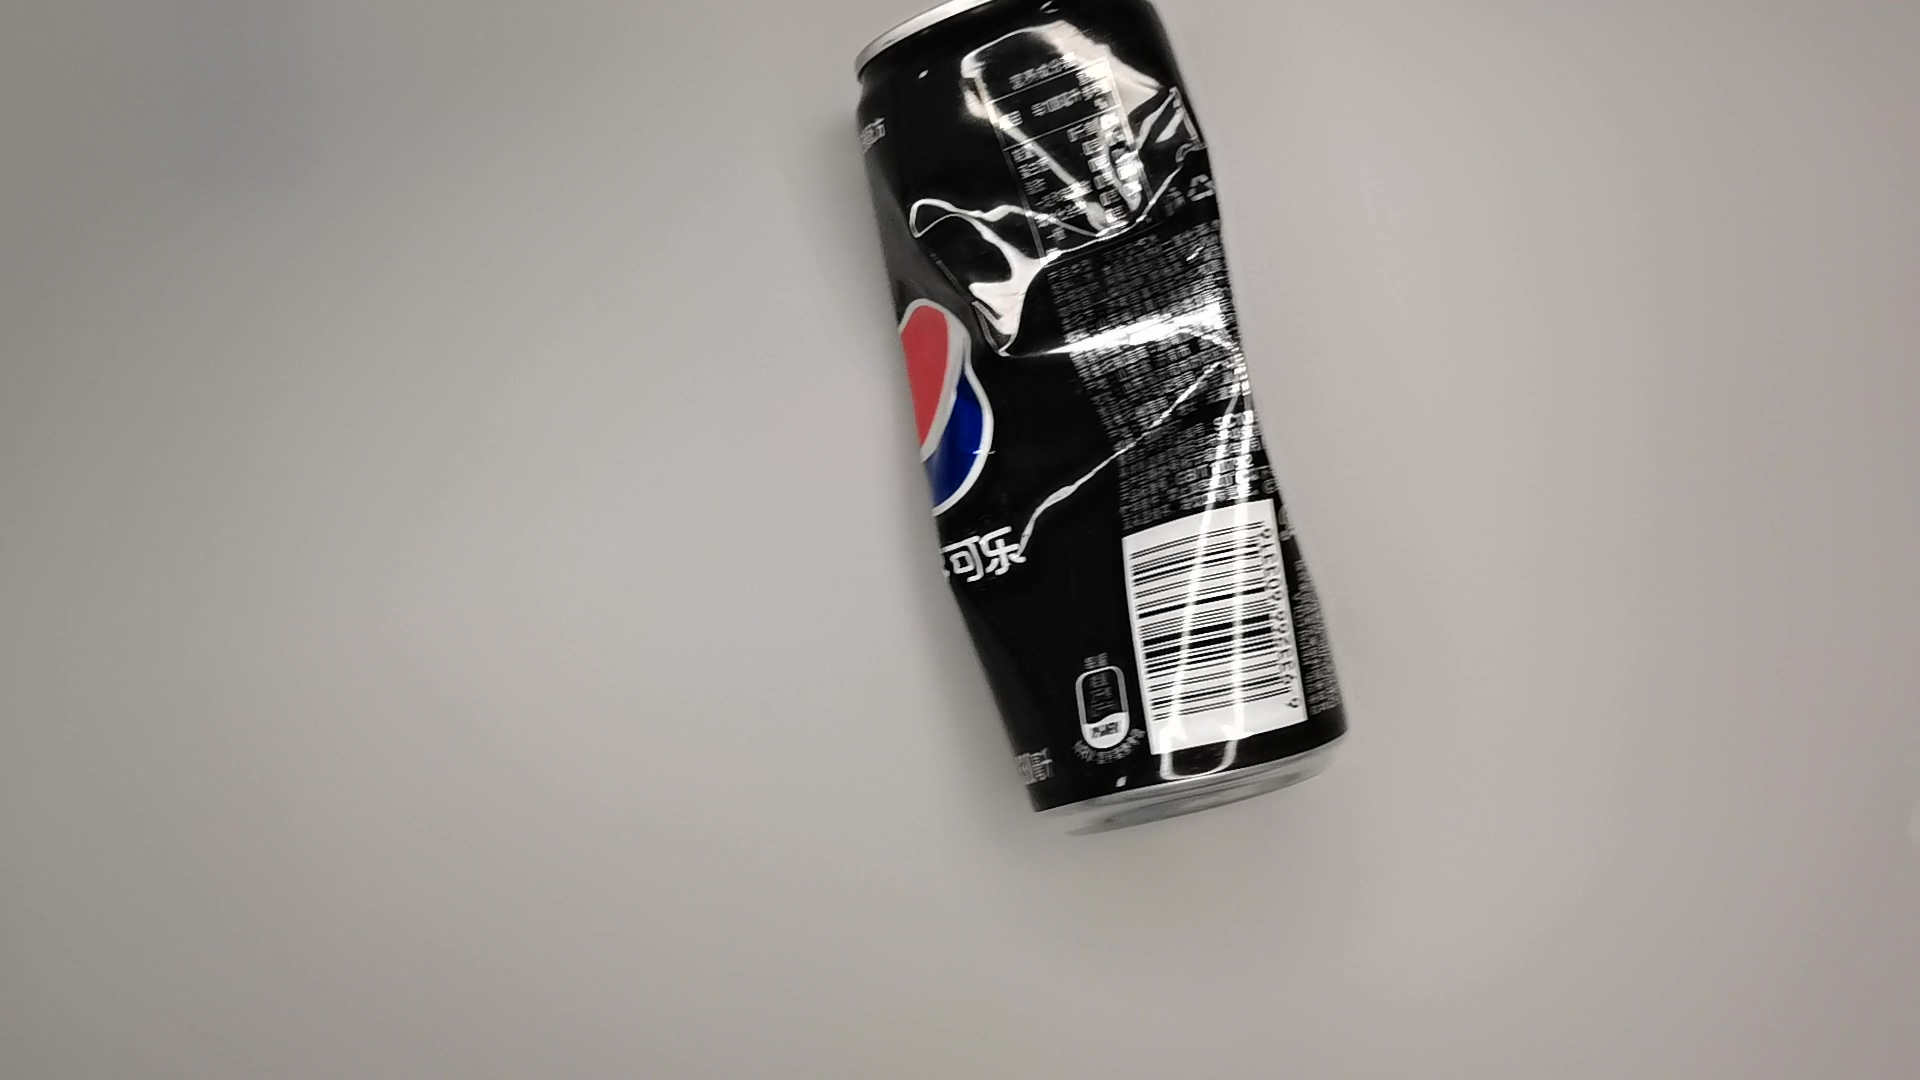can: (844, 1, 1365, 849)
